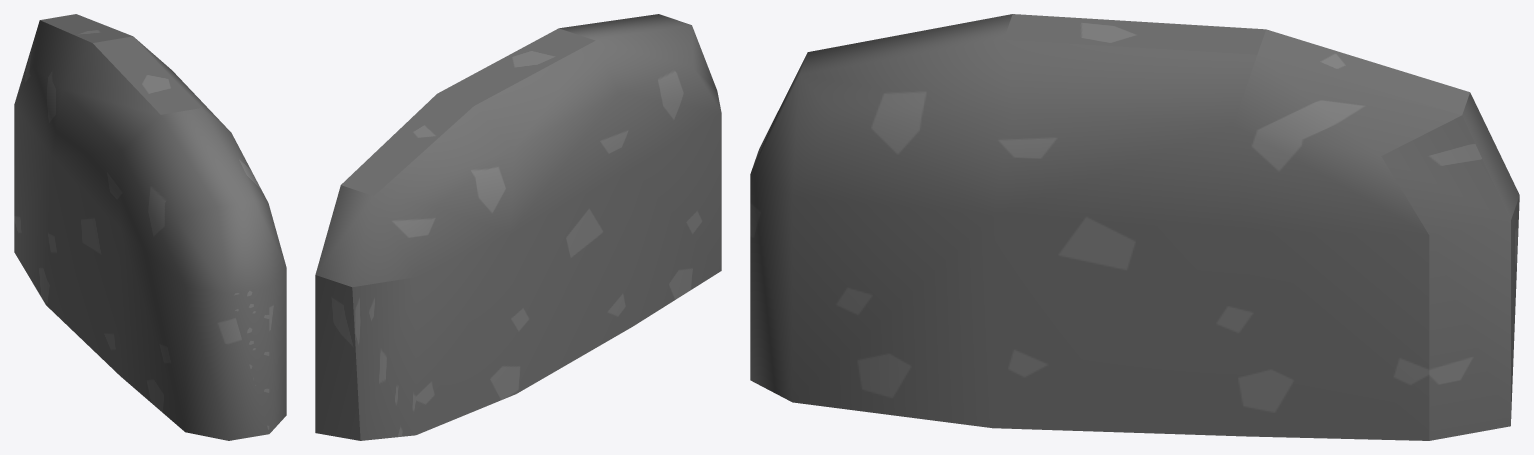
The model's file is tektaş.fbx.
3 views of the same model, side by side, from view 1: azimuth 30°, elevation 25°; view 2: azimuth 150°, elevation 25°; view 3: azimuth 270°, elevation 25° (orthographic). The views are drawn at different scales.
Parts seen in each view (by area): view 1: Model; view 2: Model; view 3: Model.
Part boxes in pixels (box(x1,y1,x2,y2)): Model: box(14, 14, 286, 440); Model: box(315, 14, 721, 440); Model: box(750, 14, 1519, 440).
Bounding box in the file's own units: 42.56 × 68.93 × 135.
